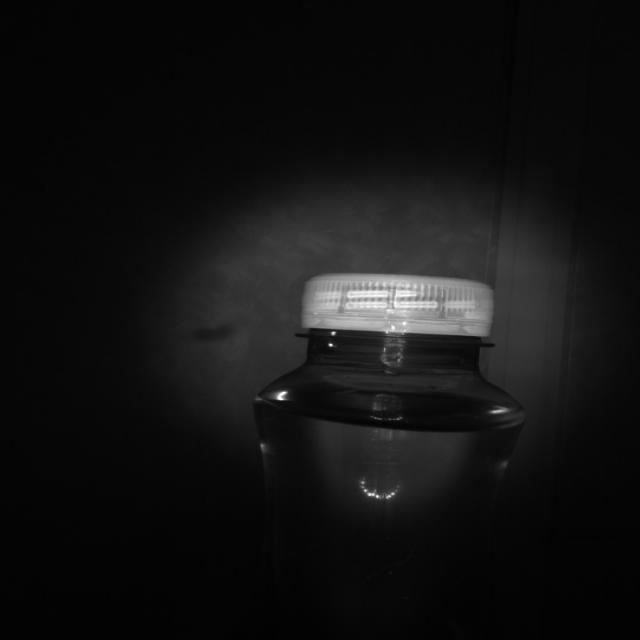Good: (300, 270, 496, 338)
